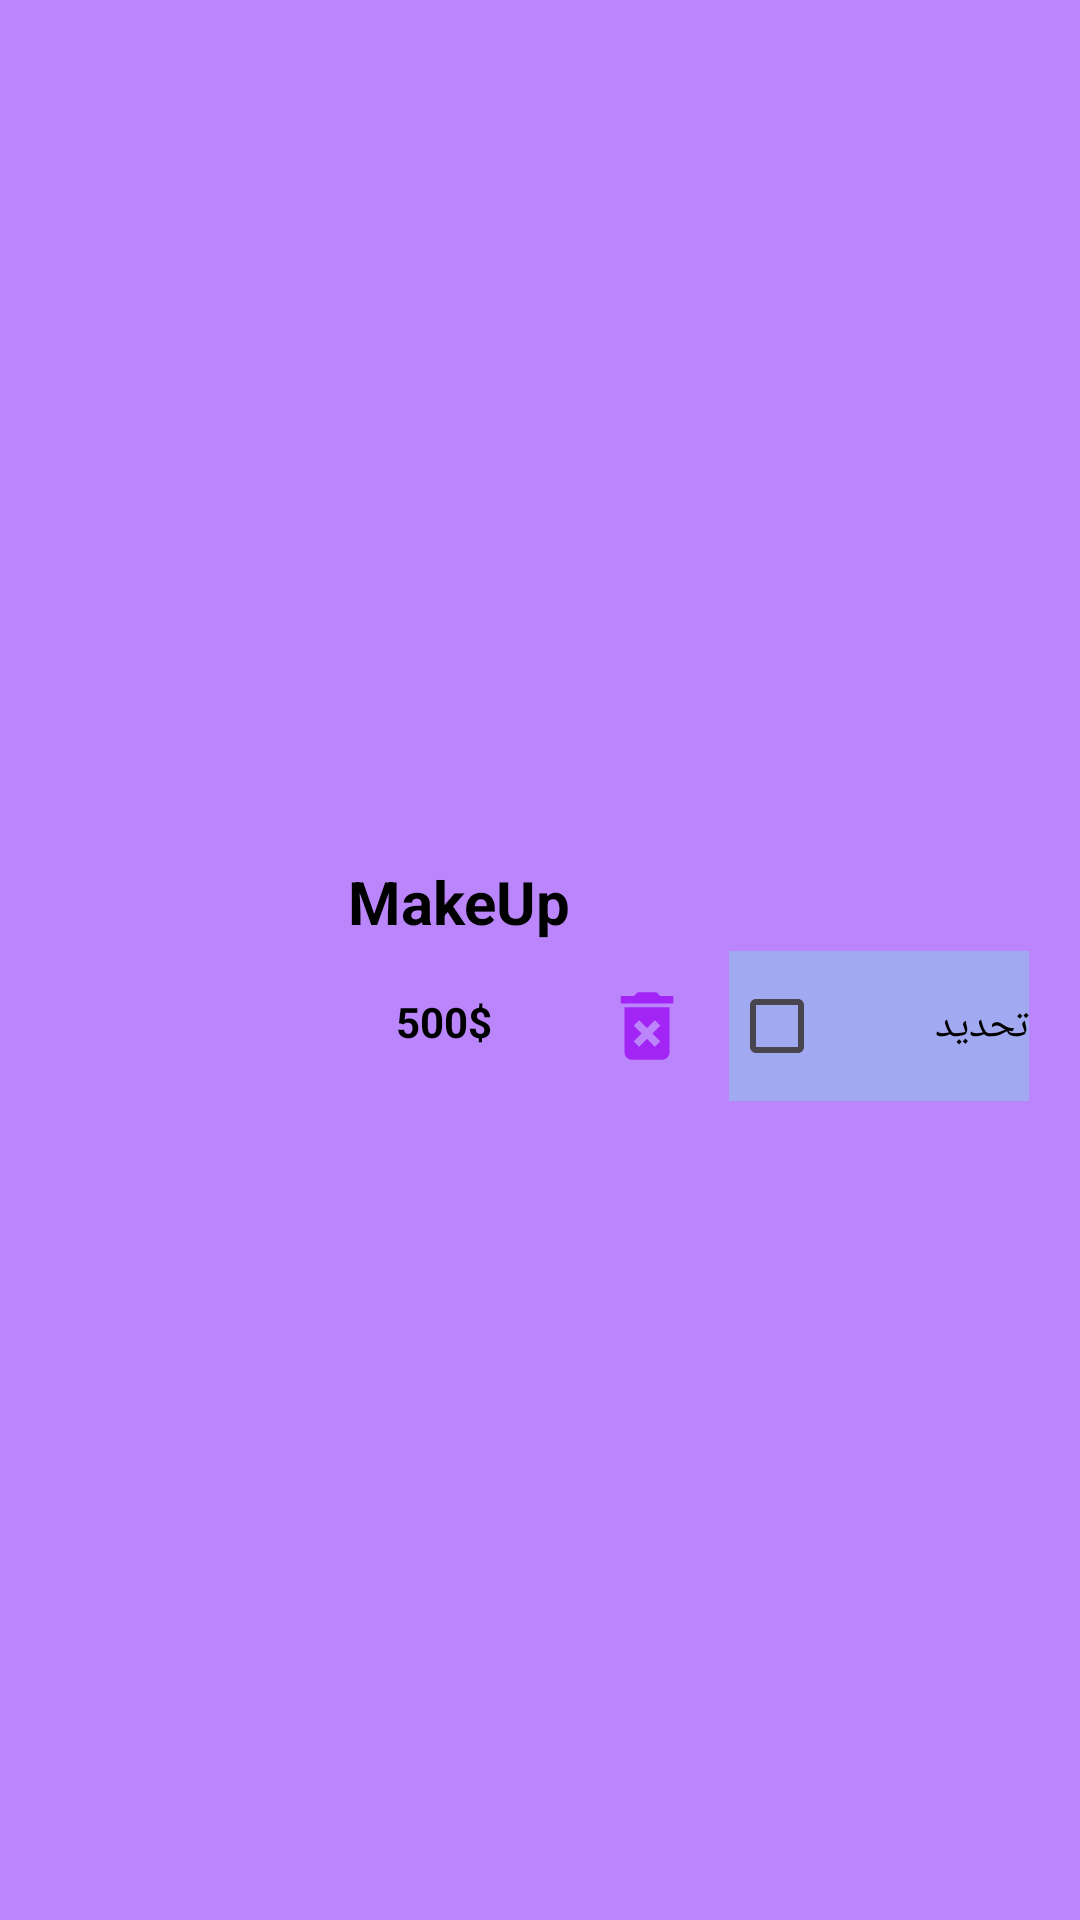

Screen size 1080 x 1920. Icon name, then its center in pixels as point (x, y):
delete forever: point (647, 1026)
